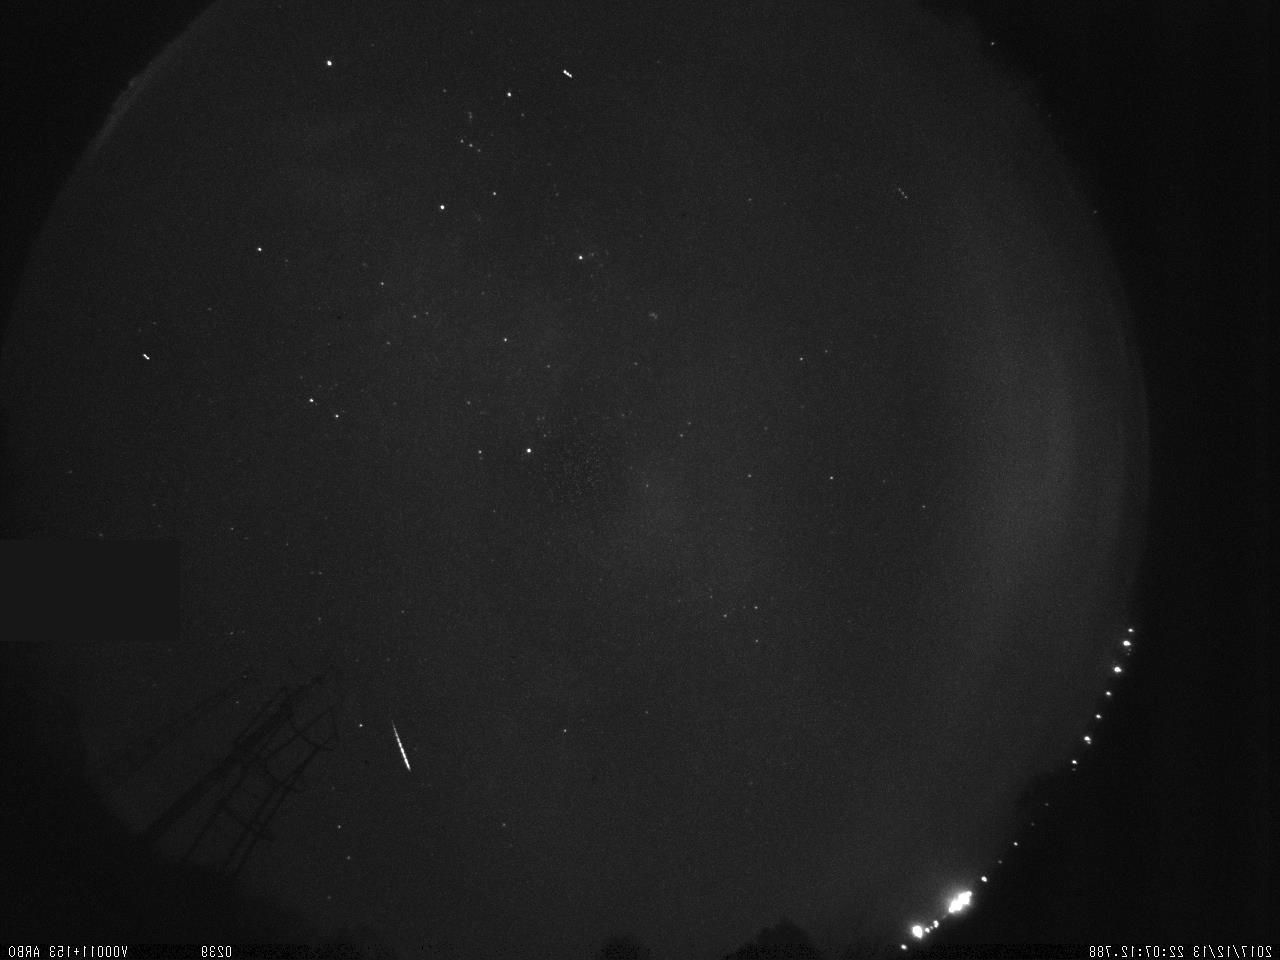meteor: (390, 719, 413, 774)
